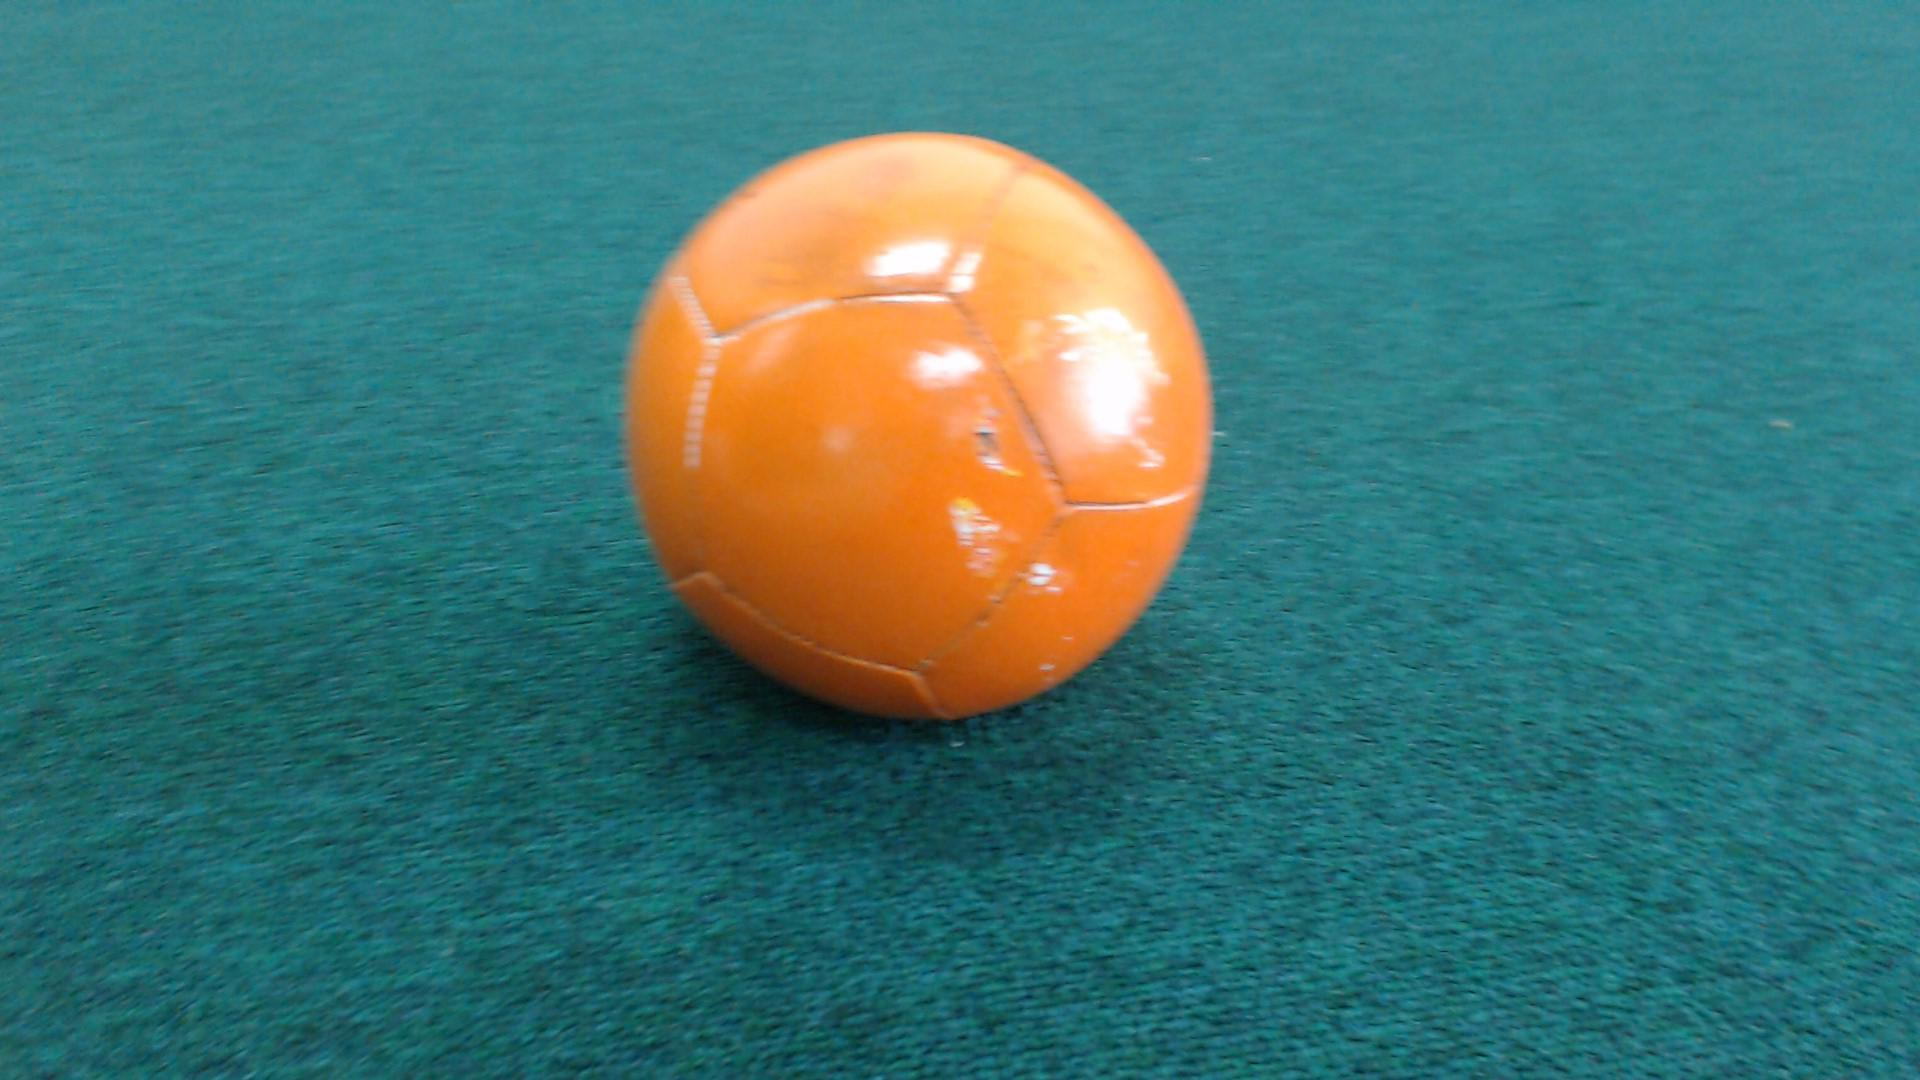bola: (608, 123, 1271, 732)
